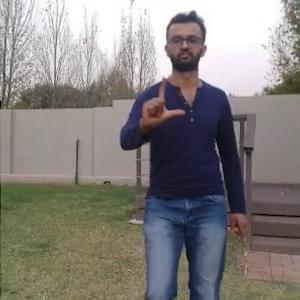land_hand: (139, 70, 187, 132)
